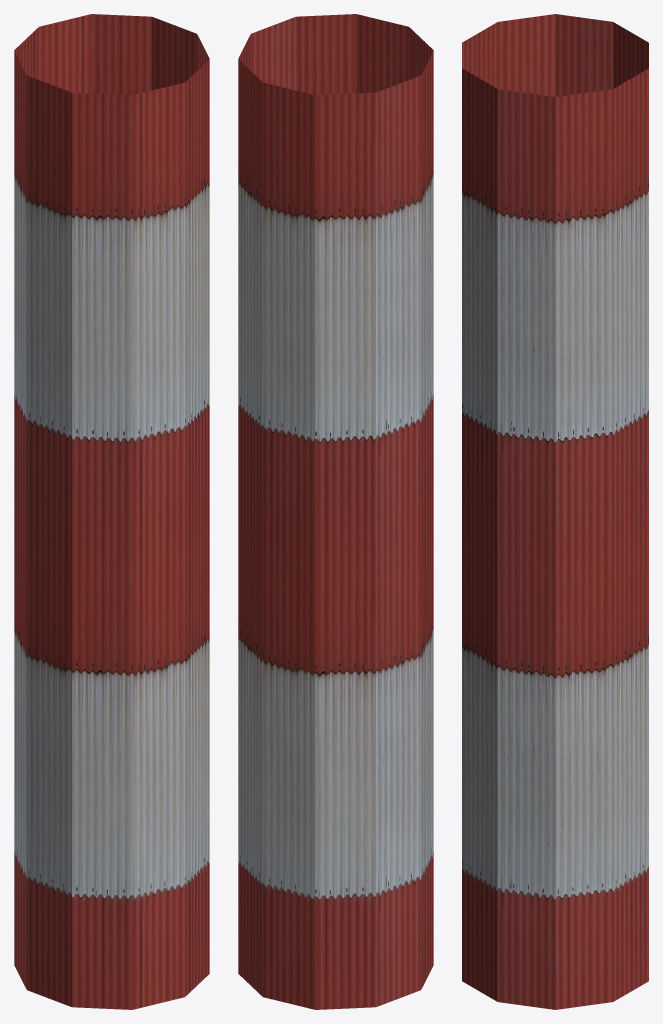
3 views of the same model, side by side, from view 1: azimuth 30°, elevation 25°; view 2: azimuth 150°, elevation 25°; view 3: azimuth 270°, elevation 25° (orthographic).
Visible parts, largest first — view 1: pCylinder1; view 2: pCylinder1; view 3: pCylinder1.
Part boxes in pixels (x1,y1,x2,y2): pCylinder1: [14, 14, 209, 1009]; pCylinder1: [238, 14, 433, 1009]; pCylinder1: [462, 14, 648, 1009].
Bounding box in the file's own units: 3.35 × 17.17 × 3.18.
1 material, 1 textured.
